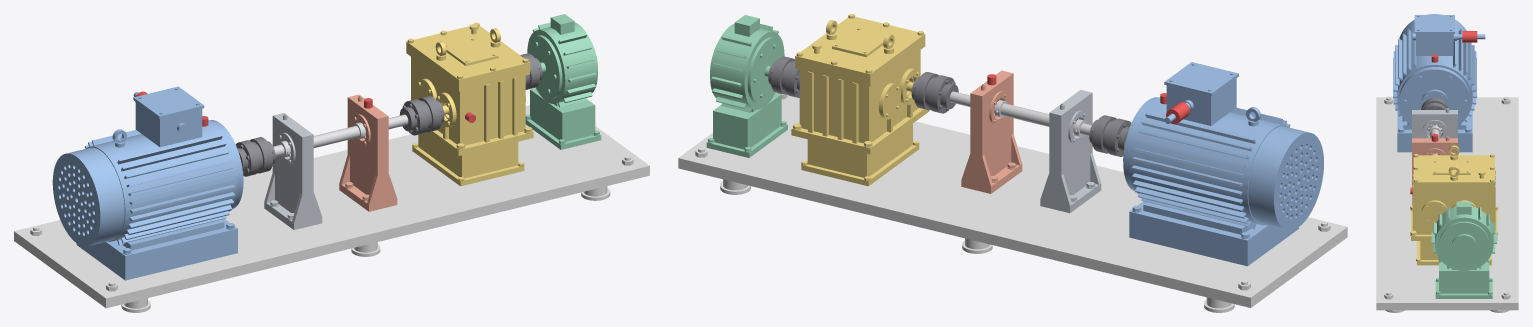
The model's file is ivhm_drivetrain.glb.
The picture shows the model from 3 angles, left to right: view 1: azimuth 30°, elevation 25°; view 2: azimuth 150°, elevation 25°; view 3: azimuth 270°, elevation 25°; orthographic projection. The views are drawn at different scales.
Visible parts, largest first — view 1: base_plate, motor_body, gearbox_housing, motor_fan_cowl, load_unit, gearbox_cover, support_bearing_housing, test_bearing_housing, motor_riser, motor_terminal_box, gearbox_plinth, load_pedestal (+6 smaller); view 2: base_plate, motor_body, gearbox_housing, motor_fan_cowl, load_unit, gearbox_cover, support_bearing_housing, test_bearing_housing, motor_riser, gearbox_plinth, motor_terminal_box, load_pedestal (+7 smaller); view 3: base_plate, load_unit, motor_body, gearbox_housing, gearbox_cover, motor_end_shield, load_pedestal, motor_terminal_box, support_bearing_housing, motor_riser, test_bearing_housing, gearbox_plinth (+5 smaller).
Part boxes in pixels (bbox=[...]): base_plate: bbox=[14, 105, 649, 312]; motor_body: bbox=[84, 120, 237, 250]; gearbox_housing: bbox=[406, 47, 533, 155]; motor_fan_cowl: bbox=[52, 147, 124, 246]; load_unit: bbox=[527, 14, 597, 107]; gearbox_cover: bbox=[406, 22, 530, 85]; support_bearing_housing: bbox=[264, 113, 322, 229]; test_bearing_housing: bbox=[339, 94, 397, 211]; motor_riser: bbox=[76, 219, 237, 280]; motor_terminal_box: bbox=[133, 86, 204, 147]; gearbox_plinth: bbox=[412, 132, 524, 186]; load_pedestal: bbox=[525, 88, 601, 149]; base_plate: bbox=[678, 92, 1347, 312]; motor_body: bbox=[1129, 97, 1290, 234]; gearbox_housing: bbox=[791, 40, 929, 154]; motor_fan_cowl: bbox=[1248, 126, 1323, 230]; load_unit: bbox=[710, 15, 784, 112]; gearbox_cover: bbox=[795, 14, 925, 80]; support_bearing_housing: bbox=[1040, 90, 1101, 213]; test_bearing_housing: bbox=[961, 70, 1022, 193]; motor_riser: bbox=[1129, 201, 1298, 266]; gearbox_plinth: bbox=[801, 124, 919, 186]; motor_terminal_box: bbox=[1164, 62, 1238, 125]; load_pedestal: bbox=[706, 93, 787, 157]; base_plate: bbox=[1376, 96, 1518, 312]; load_unit: bbox=[1431, 201, 1496, 270]; motor_body: bbox=[1393, 25, 1476, 129]; gearbox_housing: bbox=[1410, 169, 1498, 240]; gearbox_cover: bbox=[1413, 145, 1494, 186]; motor_end_shield: bbox=[1399, 67, 1470, 130]; load_pedestal: bbox=[1435, 261, 1492, 298]; motor_terminal_box: bbox=[1412, 15, 1458, 55]; support_bearing_housing: bbox=[1412, 108, 1457, 138]; motor_riser: bbox=[1397, 110, 1472, 152]; test_bearing_housing: bbox=[1412, 136, 1457, 205]; gearbox_plinth: bbox=[1416, 241, 1492, 265].
Size of the model in its own units: 1.16 by 0.353 by 0.34.
